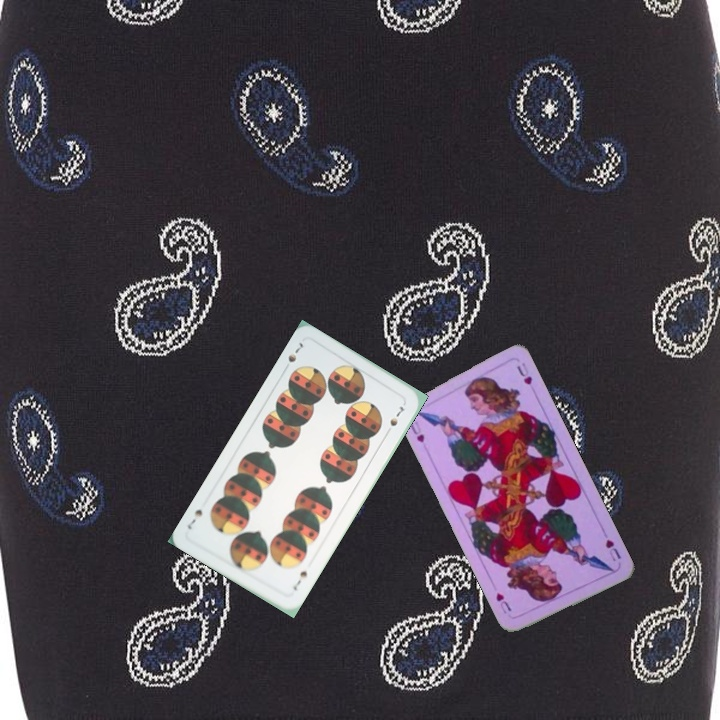HU: (601, 535, 624, 564), (406, 417, 427, 445)
S7: (284, 338, 306, 365), (289, 567, 310, 593)
